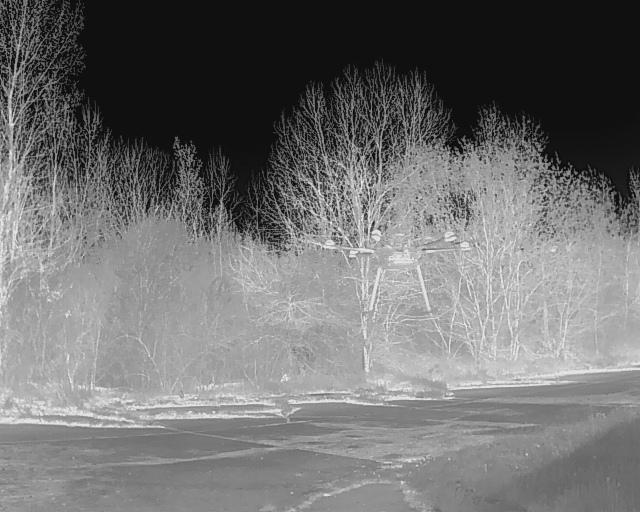drone: (311, 218, 481, 325)
